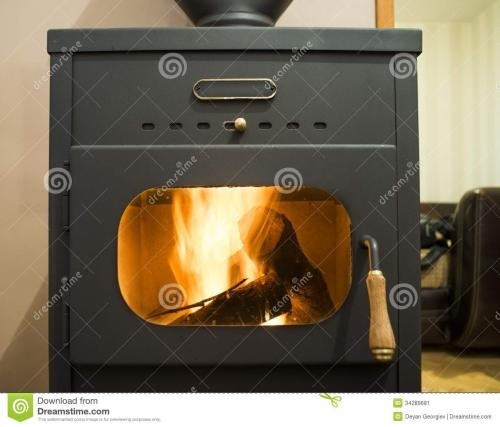fire: (167, 186, 272, 306), (260, 307, 291, 326)
